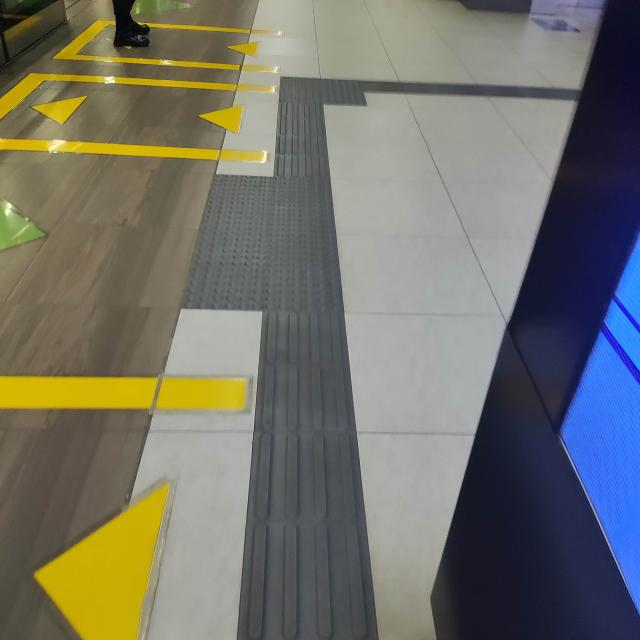kanan: (265, 63, 418, 120)
